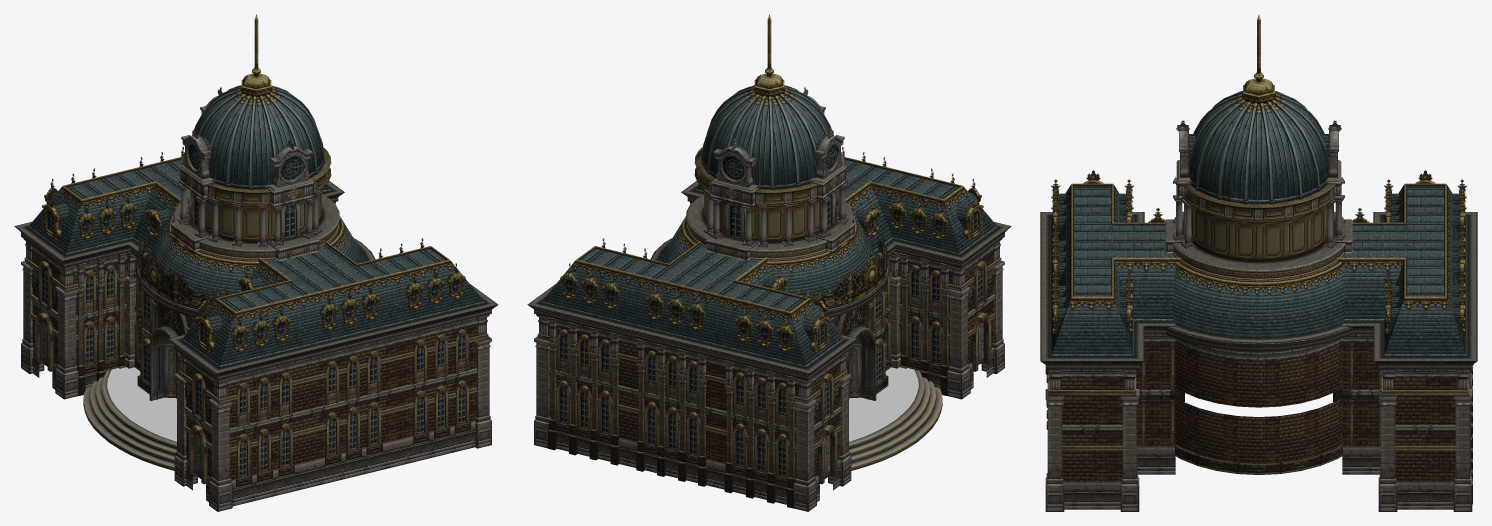
Rendered from EnvBdgMD_Mansion_A_Outdoor_Small.FBX.
3 renders of one model, left to right at view 1: azimuth 30°, elevation 25°; view 2: azimuth 150°, elevation 25°; view 3: azimuth 270°, elevation 25°, orthographic. The views are drawn at different scales.
Visible parts, largest first — view 1: EnvBdgMD_Mansion_A_Outdoor_Small; view 2: EnvBdgMD_Mansion_A_Outdoor_Small; view 3: EnvBdgMD_Mansion_A_Outdoor_Small.
Part boxes in pixels (<box>): EnvBdgMD_Mansion_A_Outdoor_Small: <box>14,14,498,511</box>; EnvBdgMD_Mansion_A_Outdoor_Small: <box>527,14,1011,511</box>; EnvBdgMD_Mansion_A_Outdoor_Small: <box>1040,15,1477,511</box>.
Bounding box in the file's own units: 1738 × 2255 × 2100.
